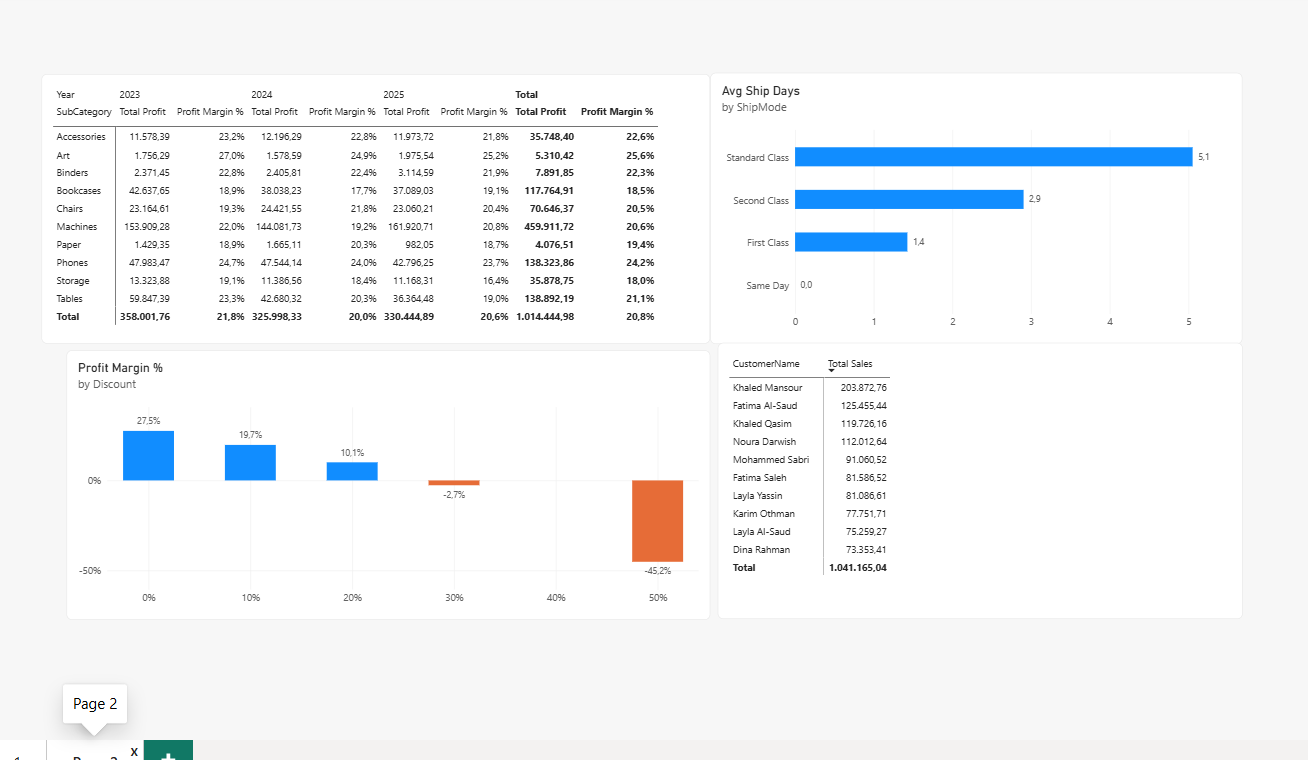

This screenshot's page, from the dashboard's own definition file:
{"tool":"powerbi","page":{"name":"Page 2","canvas":[1920,1080],"ordinal":1},"visuals":[{"type":"pivotTable","fields":{"Columns":["Dim_Date.Year"],"Rows":["Dim_Product.SubCategory"],"Values":["Fact_Sales.Total Profit","Fact_Sales.Profit Margin %"]},"box":[62,116,968,390],"z":0},{"type":"clusteredColumnChart","fields":{"Category":["Fact_Sales.Discount"],"Y":["Fact_Sales.Profit Margin %"]},"box":[98,516,932,390],"z":1},{"type":"clusteredBarChart","fields":{"Category":["Dim_ShipMode.ShipMode"],"Y":["Fact_Sales.Avg Ship Days"]},"box":[1029.6,114.8,770.4,392.6],"z":2},{"type":"pivotTable","fields":{"Rows":["Dim_Customer.CustomerName"],"Values":["Fact_Sales.Total Sales"]},"box":[1040,505.7,760,400],"z":3}]}

Visuals, with their boxes on the page's 1920x1080 design canvas (x1, y1, x2, y2). These are canvas units, not pixel positions in the 1308x760 screenshot, which may show the page scaled, cropped or inside an application window:
pivotTable - Dim_Date.Year x Dim_Product.SubCategory: region(62, 116, 1030, 506)
clusteredColumnChart - Fact_Sales.Discount x Fact_Sales.Profit Margin %: region(98, 516, 1030, 906)
clusteredBarChart - Dim_ShipMode.ShipMode x Fact_Sales.Avg Ship Days: region(1030, 115, 1800, 507)
pivotTable - Dim_Customer.CustomerName x Fact_Sales.Total Sales: region(1040, 506, 1800, 906)
